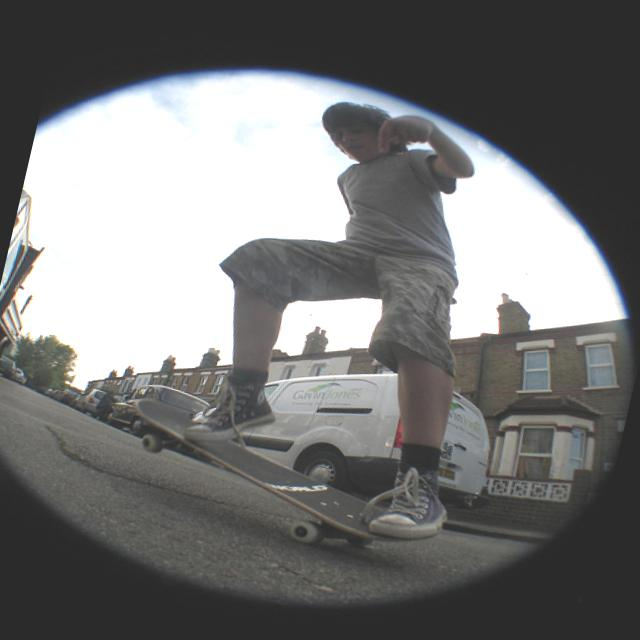Vehicle: (178, 330, 506, 524), (230, 342, 510, 523), (0, 172, 62, 381), (0, 168, 61, 378), (108, 377, 210, 448), (72, 383, 107, 418), (0, 353, 17, 379), (59, 386, 79, 408), (12, 367, 28, 385), (48, 388, 63, 401)
